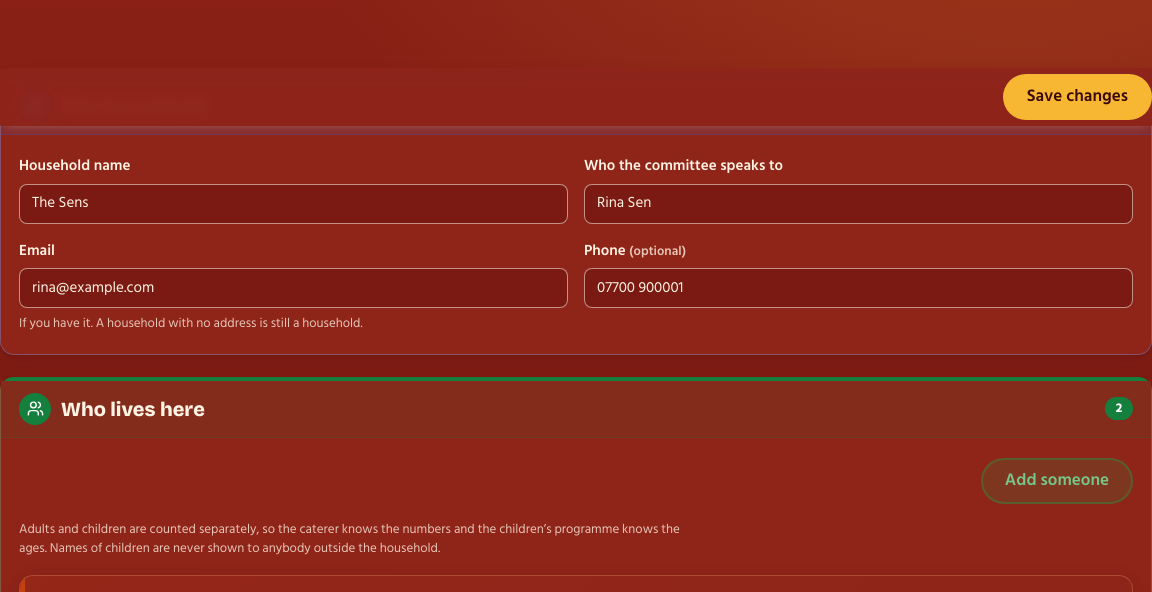
Test: refusing to save something wrong › does not save, and says what is missing
Clear the field labelled "Household name" at (294, 204), box [19,184,568,224]
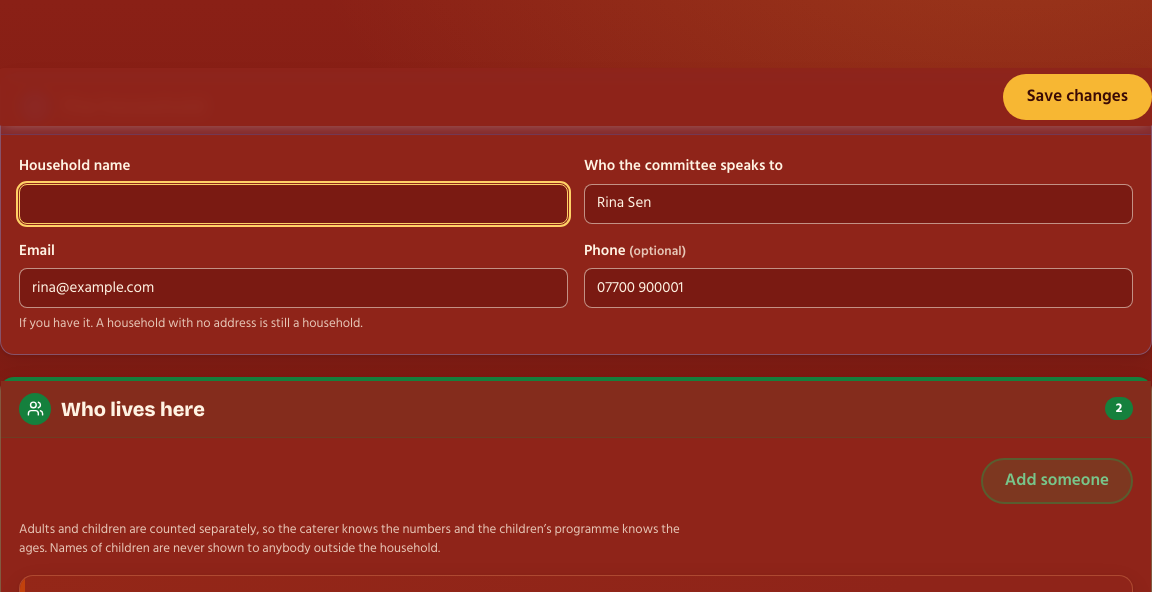
Click the button "Save changes" at (1077, 97), box [1003,74,1151,120]
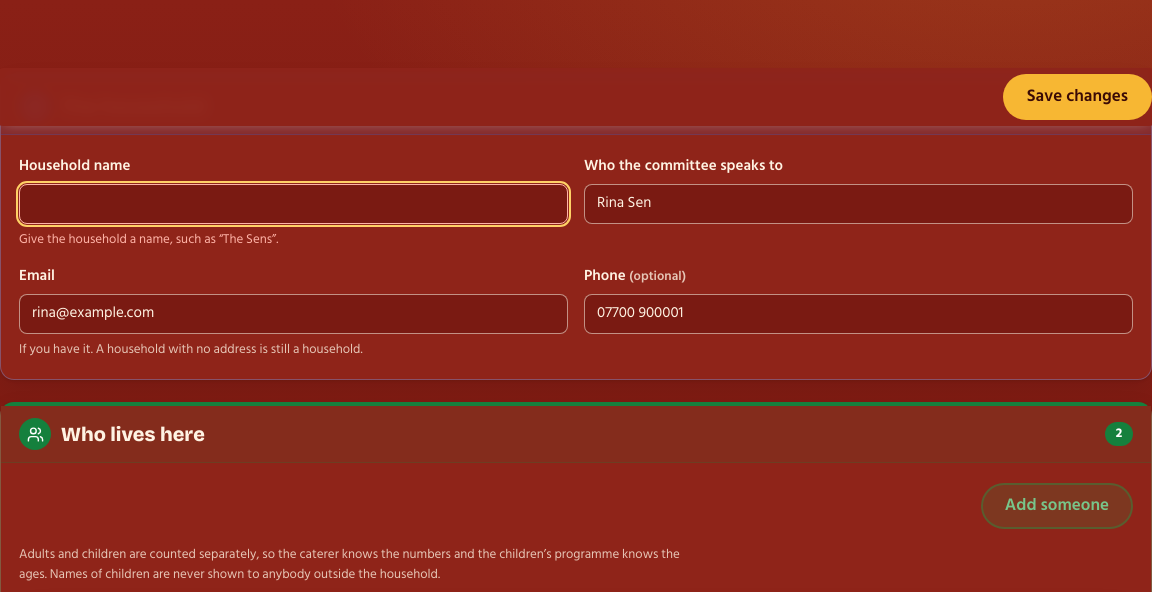
Result: the text "Give the household a name, such as “The Sens”." is shown at [19,228,278,250]
